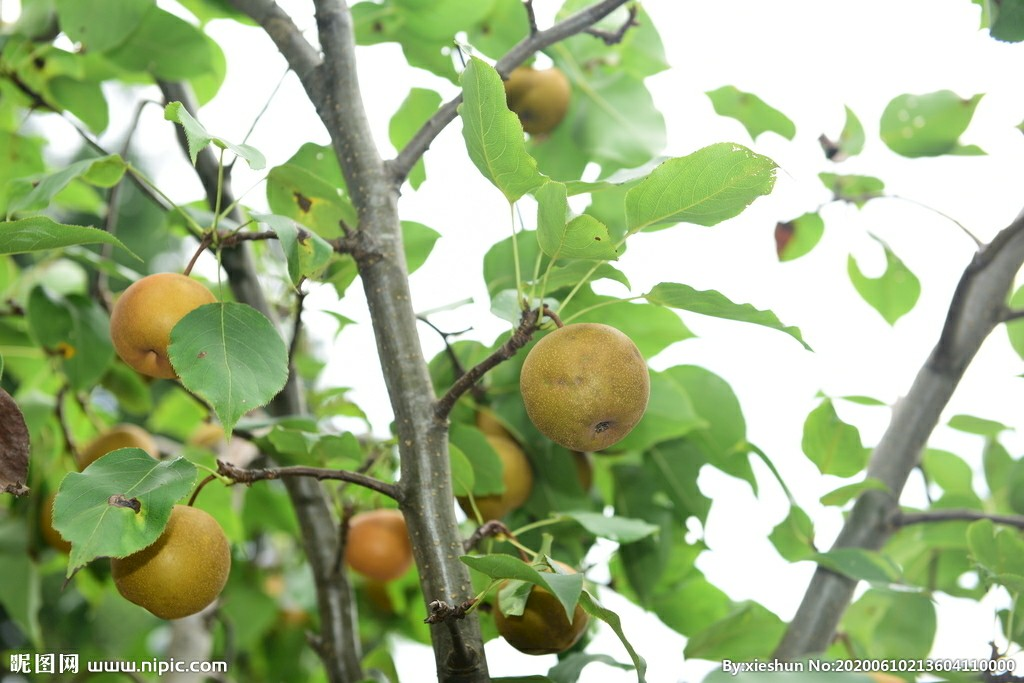pear: (520, 323, 650, 451), (110, 501, 233, 618), (110, 270, 224, 382), (457, 429, 531, 522), (502, 68, 572, 139), (345, 511, 417, 578)
